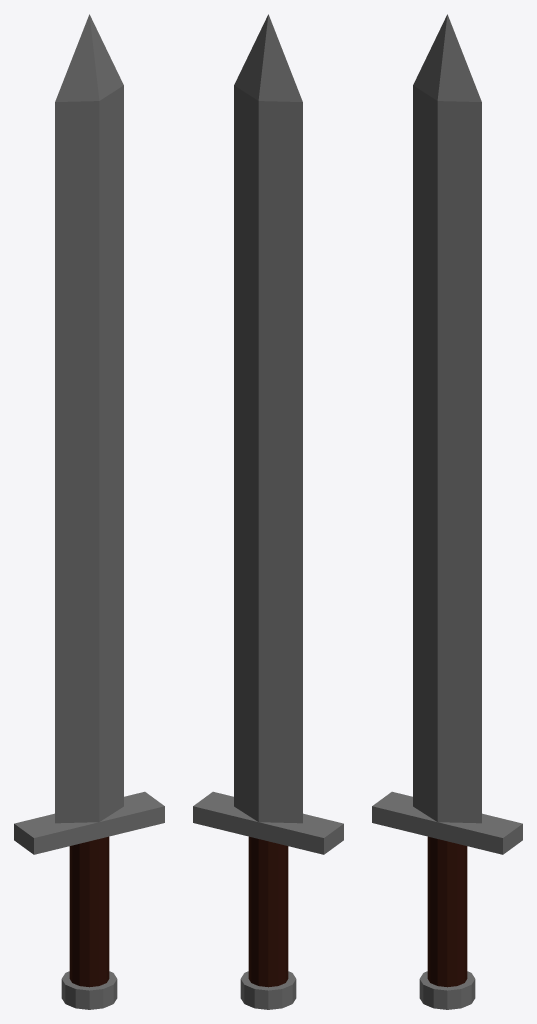
The model's file is Sword.obj.
3 renders of one model, left to right at view 1: azimuth 30°, elevation 25°; view 2: azimuth 150°, elevation 25°; view 3: azimuth 330°, elevation 25°, orthographic.
Parts seen in each view (by area): view 1: Sword_Cylinder; view 2: Sword_Cylinder; view 3: Sword_Cylinder.
Boxes of the visible parts, x1=… form: Sword_Cylinder: x1=14, y1=14, x2=164, y2=1009; Sword_Cylinder: x1=193, y1=14, x2=343, y2=1009; Sword_Cylinder: x1=372, y1=14, x2=522, y2=1009.
Bounding box in the file's own units: 0.19 × 1.36 × 0.07.
